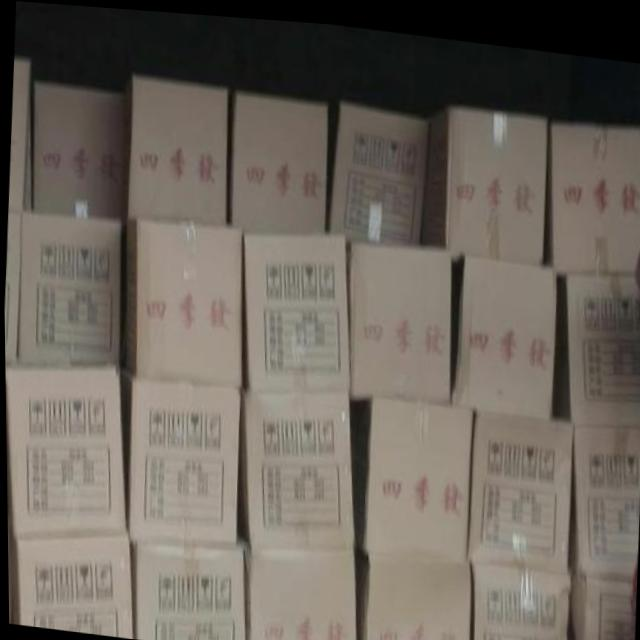box: (4, 366, 126, 542), (420, 99, 546, 258), (125, 222, 244, 385), (128, 376, 241, 545), (360, 389, 471, 553), (242, 390, 354, 545), (467, 402, 573, 564), (452, 247, 556, 411), (242, 228, 347, 388), (349, 235, 451, 394), (17, 212, 121, 366), (127, 71, 226, 223), (328, 96, 429, 241), (231, 89, 328, 230), (550, 114, 640, 265), (32, 81, 127, 215), (13, 533, 130, 636), (566, 266, 640, 417), (243, 542, 355, 640), (134, 542, 245, 640), (572, 415, 640, 569), (364, 547, 468, 640), (469, 554, 569, 640), (568, 563, 633, 640), (8, 58, 32, 212), (4, 212, 22, 365)
